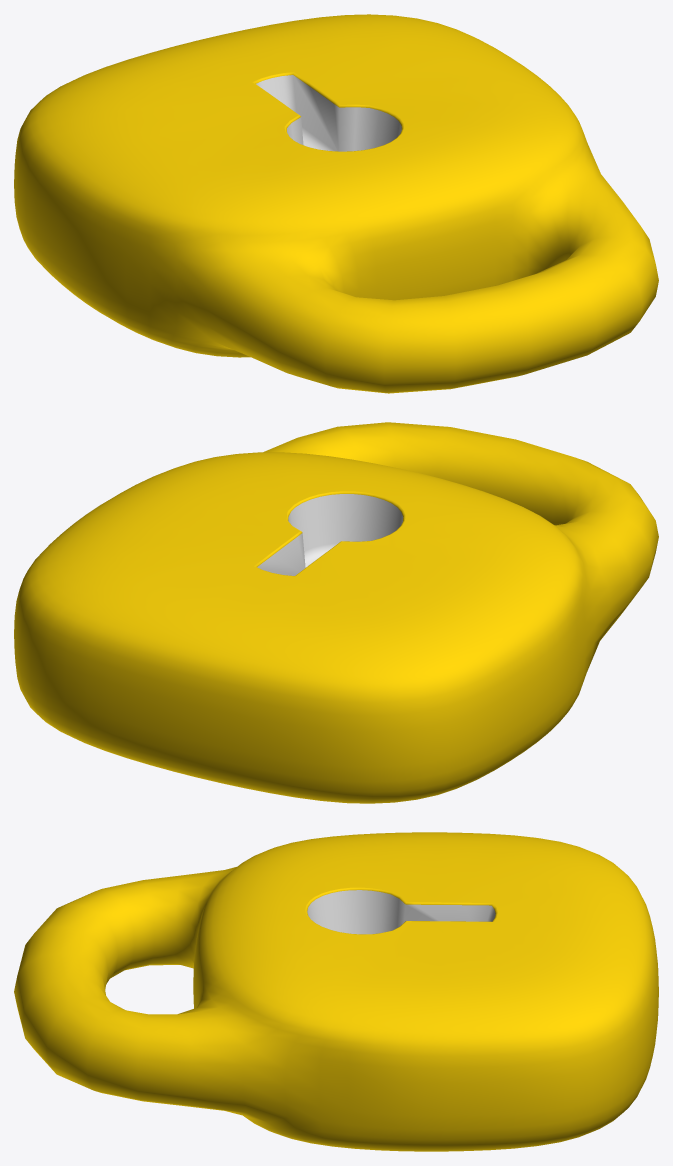
The model's file is Lock.fbx.
The picture shows the model from 3 angles, top to bottom: view 1: azimuth 30°, elevation 25°; view 2: azimuth 150°, elevation 25°; view 3: azimuth 270°, elevation 25°; orthographic projection. The views are drawn at different scales.
Visible parts, largest first — view 1: Lock; view 2: Lock; view 3: Lock.
Part boxes in pixels (x1=…): Lock: x1=14, y1=14, x2=658, y2=393; Lock: x1=14, y1=422, x2=658, y2=803; Lock: x1=14, y1=832, x2=658, y2=1151.
Size of the model in its own units: 1.87 by 0.6459 by 2.36.
